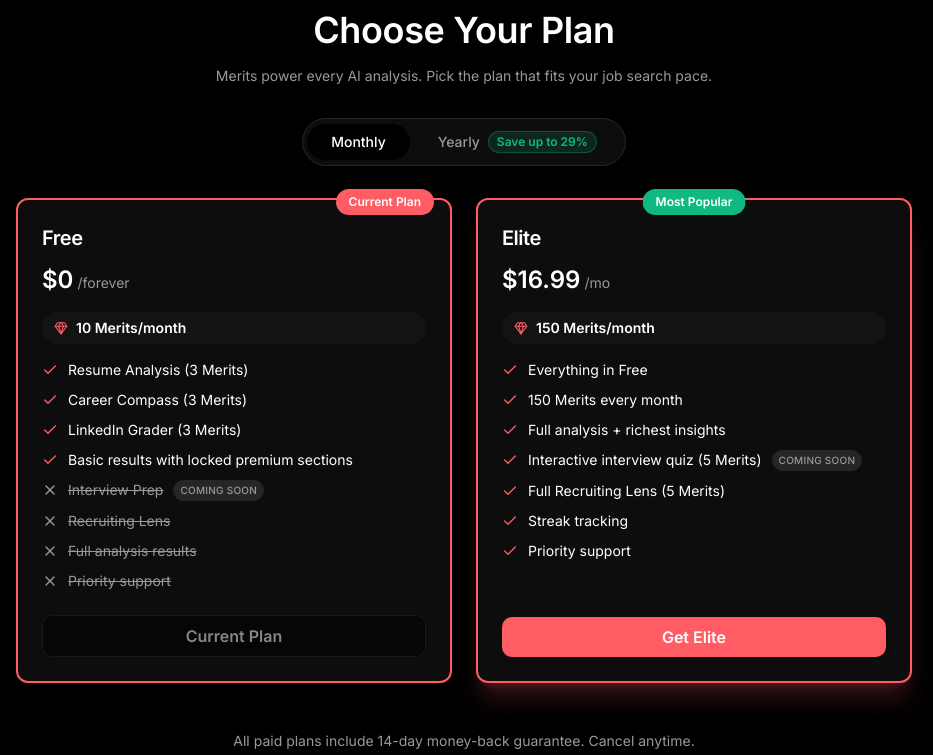
PricingTable › switches to yearly view and renders $169.99 + Save badge
Click the button "Yearly Save up to 29%" at (517, 142), box [414,123,621,161]
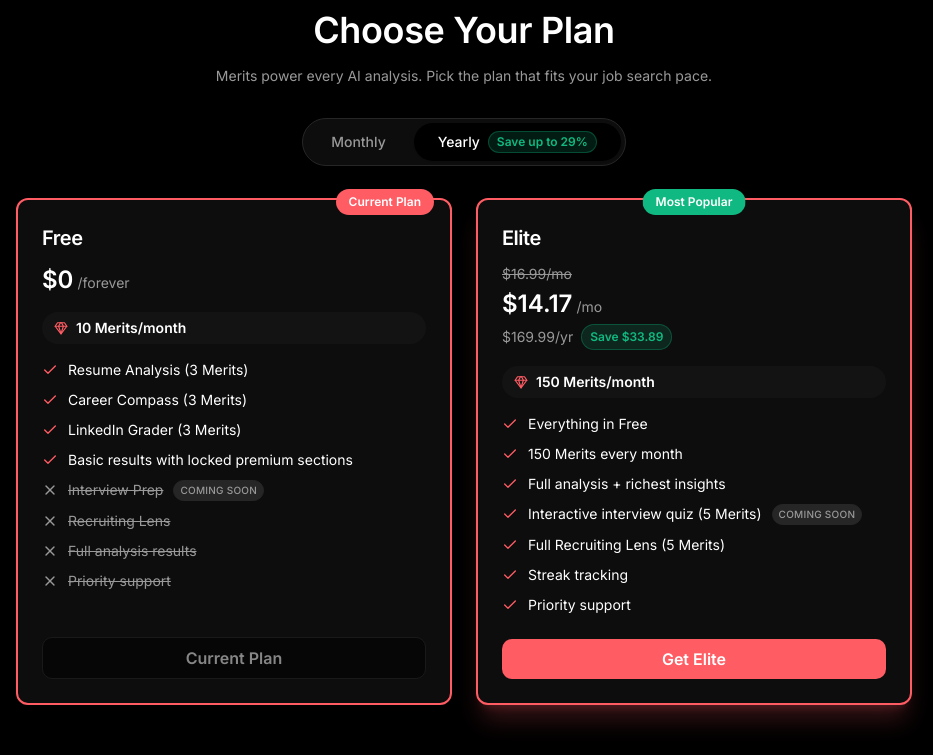
Expected: the text "$169.99/yr" is shown, [502,327,573,347]
Expected: the text "Save $33.89" is shown, [581,324,672,350]
